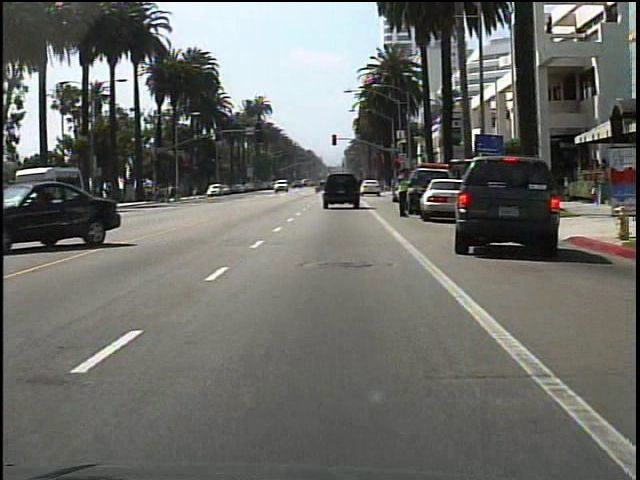person: (393, 168, 413, 219)
